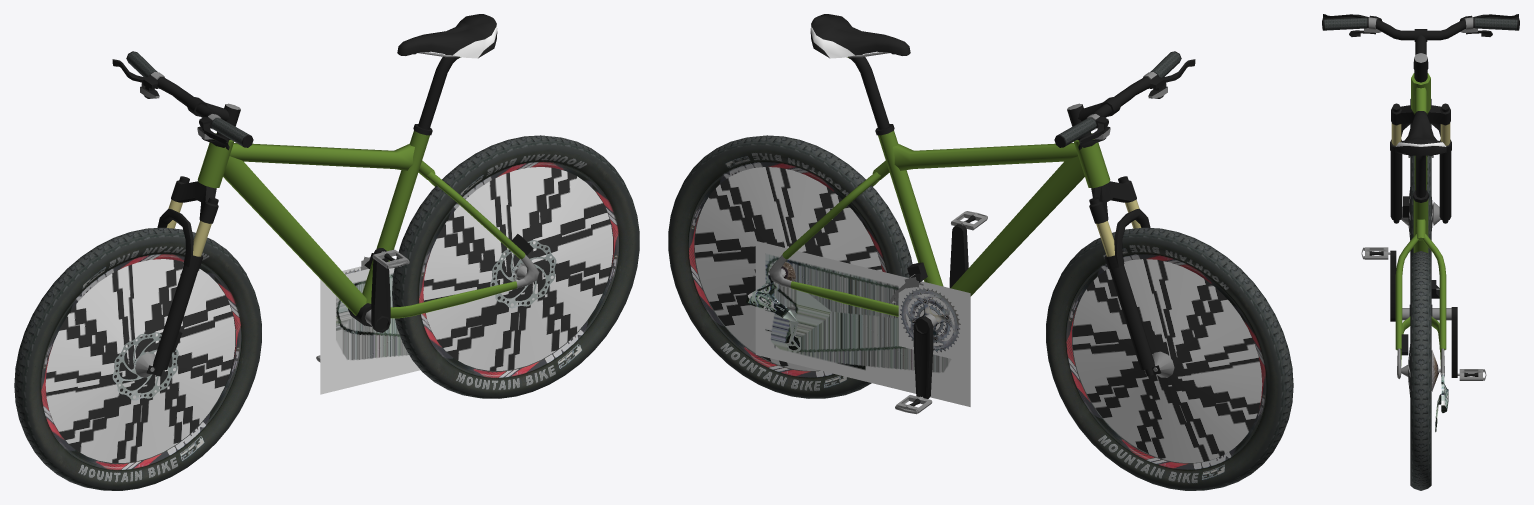
Rendered from bike_vtt_LOD_01.FBX.
3 views of the same model, side by side, from view 1: azimuth 30°, elevation 25°; view 2: azimuth 150°, elevation 25°; view 3: azimuth 270°, elevation 25° (orthographic). The views are drawn at different scales.
Visible parts, largest first — view 1: bike_wheel_AV, bike_wheel_AR, bike_base, bike_handlebar, bike_pedalier; view 2: bike_wheel_AV, bike_base, bike_wheel_AR, bike_handlebar, bike_pedalier; view 3: bike_handlebar, bike_base, bike_wheel_AR, bike_pedalier, bike_wheel_AV, bike_pedale_L, bike_pedale_R.
Boxes of the visible parts, box(x1,y1,x2,y2) form: bike_wheel_AV: box(14, 227, 261, 490); bike_wheel_AR: box(392, 135, 639, 398); bike_base: box(197, 14, 539, 394); bike_handlebar: box(112, 51, 253, 376); bike_pedalier: box(320, 248, 390, 332); bike_wheel_AV: box(1046, 227, 1293, 490); bike_base: box(746, 14, 1110, 406); bike_wheel_AR: box(668, 135, 912, 398); bike_handlebar: box(1054, 51, 1195, 376); bike_pedalier: box(898, 224, 968, 398); bike_handlebar: box(1322, 14, 1519, 223); bike_base: box(1395, 73, 1448, 432); bike_wheel_AR: box(1401, 251, 1440, 490); bike_pedalier: box(1390, 250, 1457, 377); bike_wheel_AV: box(1401, 99, 1440, 255); bike_pedale_L: box(1361, 247, 1390, 259); bike_pedale_R: box(1457, 369, 1486, 380).
Bounding box in the file's own units: 178 × 104 × 57.48.
